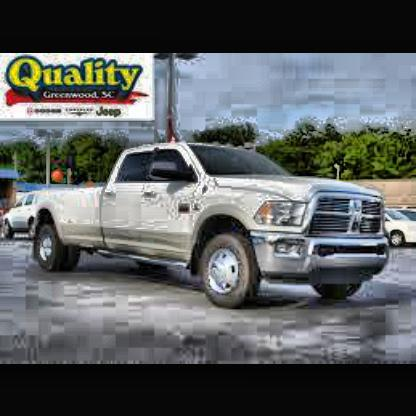Dodge Ram Pickup 3500 Crew Cab 2010: (32, 141, 393, 309)
